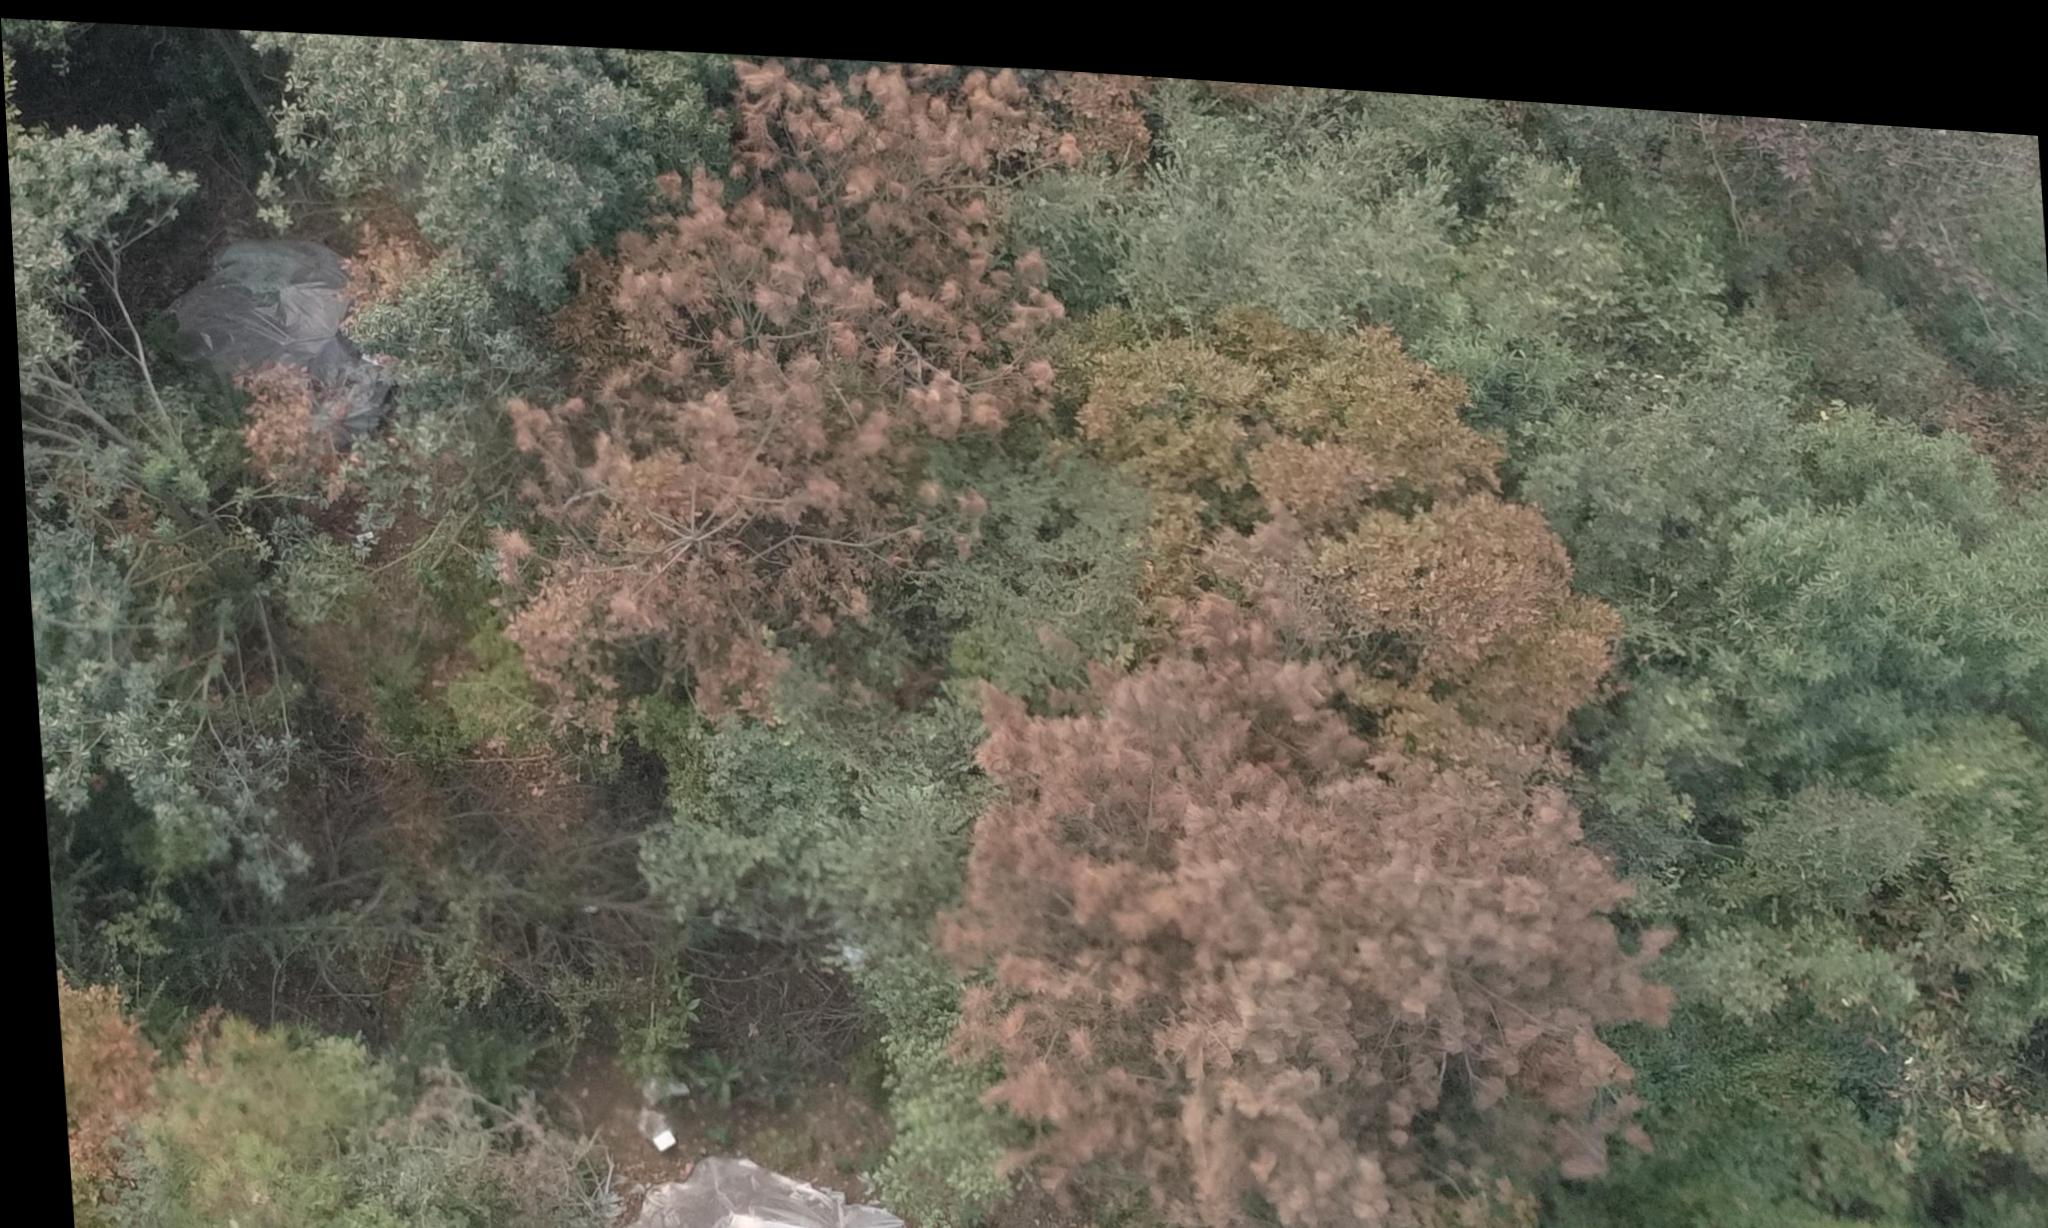heavy: (921, 459, 1668, 1228), (634, 37, 1137, 406), (469, 399, 896, 705)
